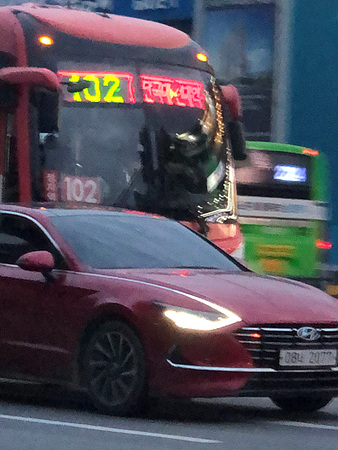bnum: (60, 174, 101, 203)
